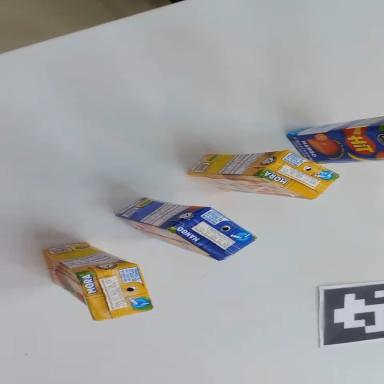HIT-MANGO: (112, 184, 260, 268), (286, 116, 384, 164)
HIT-MORA: (44, 227, 153, 331), (186, 146, 339, 200)
cara_F: (32, 245, 107, 323), (114, 216, 223, 260), (287, 126, 384, 166), (188, 175, 311, 200)
